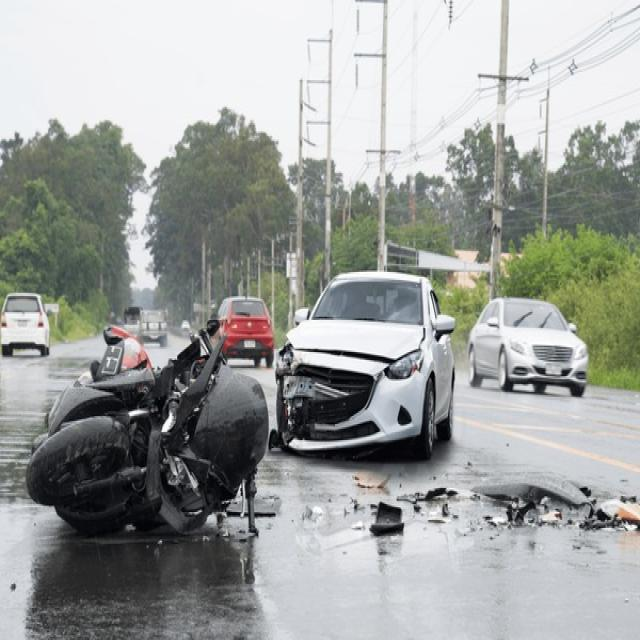Accident: (27, 266, 460, 548)
